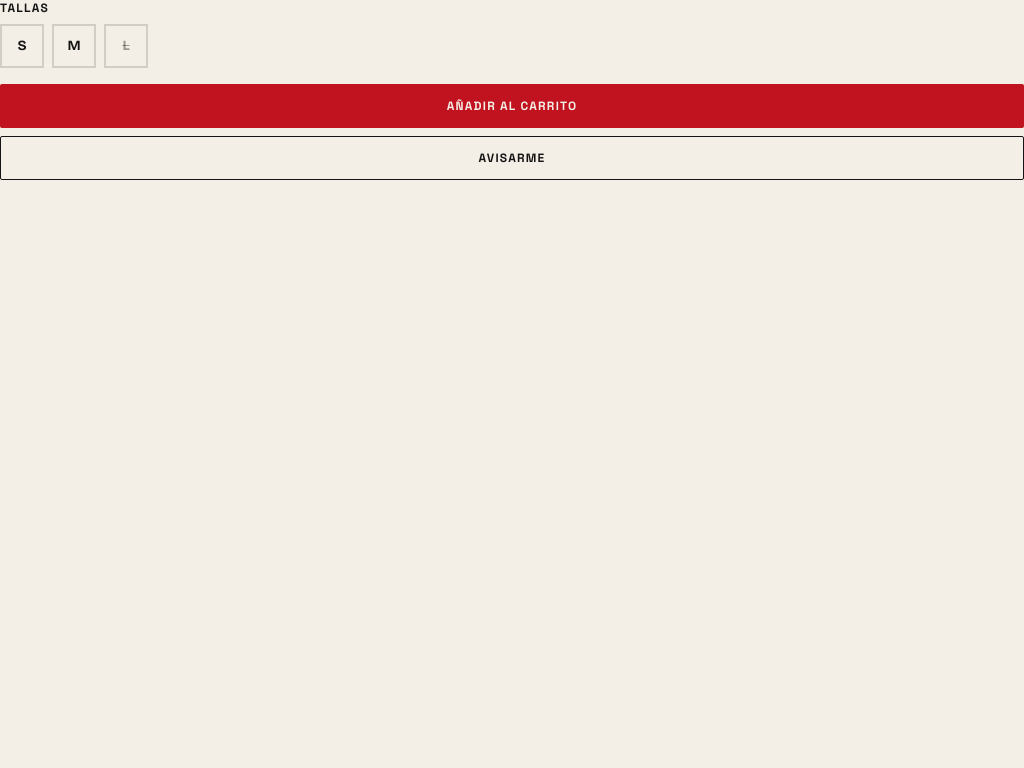
Test case: AddToCartForm › adds the selected size and opens the cart sheet
Click the button "M" at x=74, y=46, box [52,24,96,68]
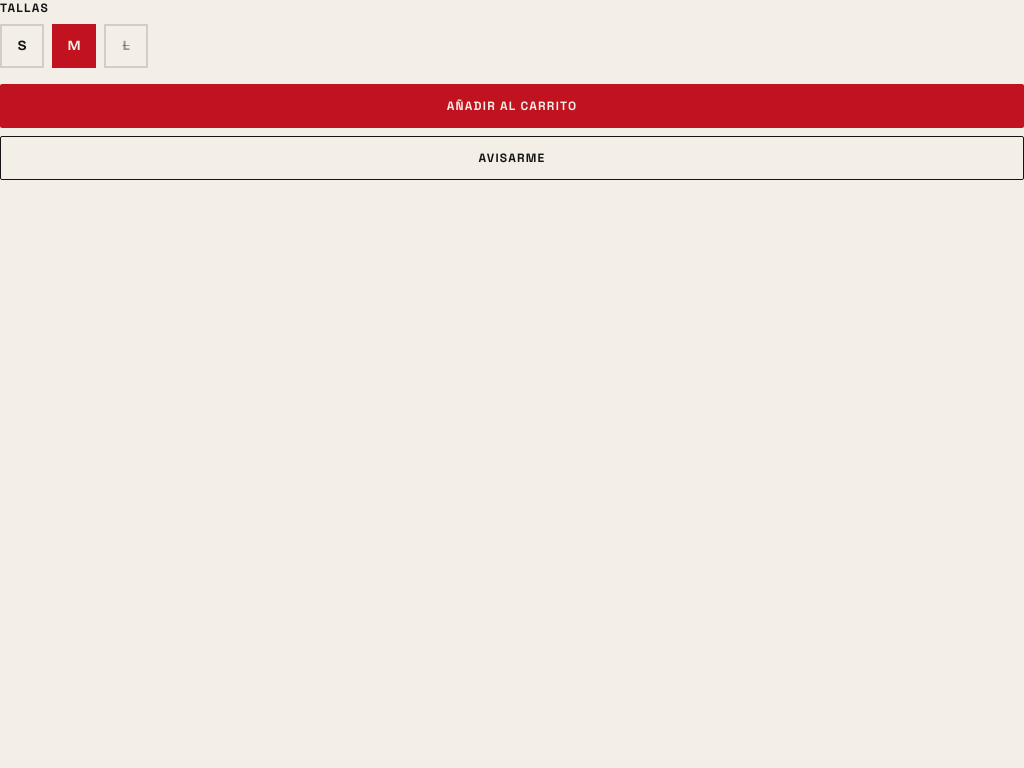
Click the button "Añadir al carrito" at x=512, y=106, box [0,84,1023,128]
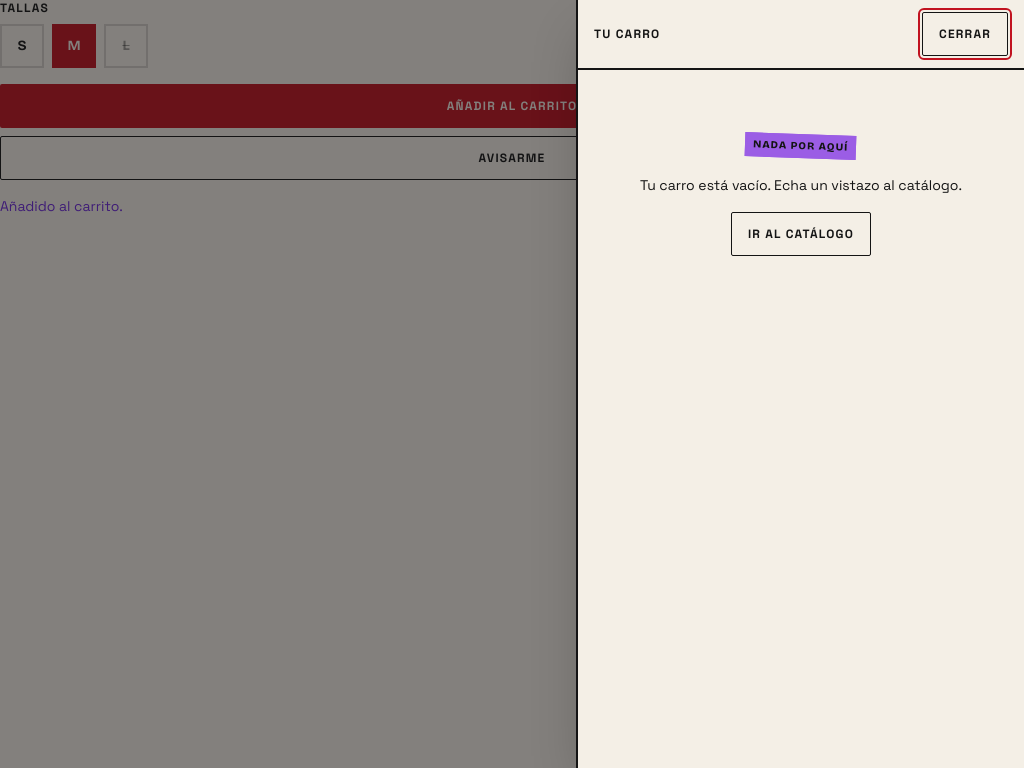
Expected: the text "Añadido al carrito." is shown, [0,197,123,215]
Expected: the dialog named "Carrito" is shown, [576,0,1023,767]
